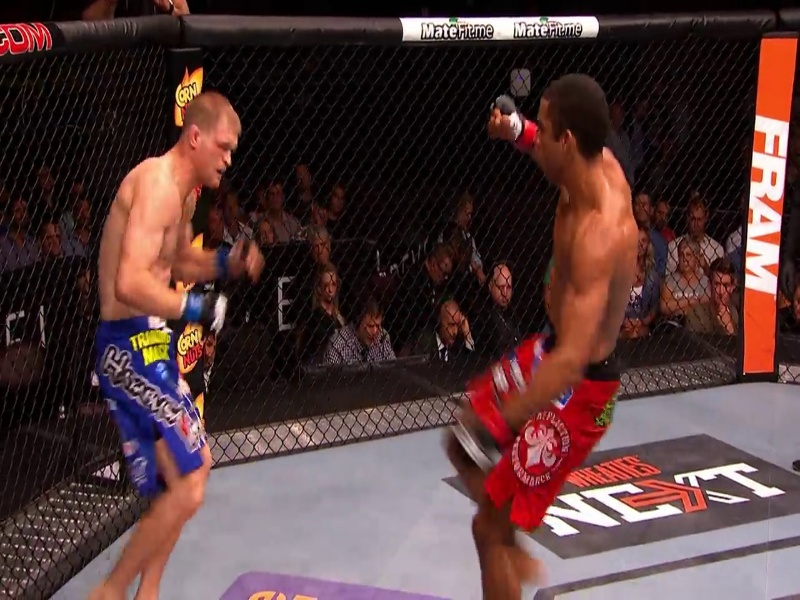fighter: (445, 65, 649, 600), (88, 87, 258, 600)
